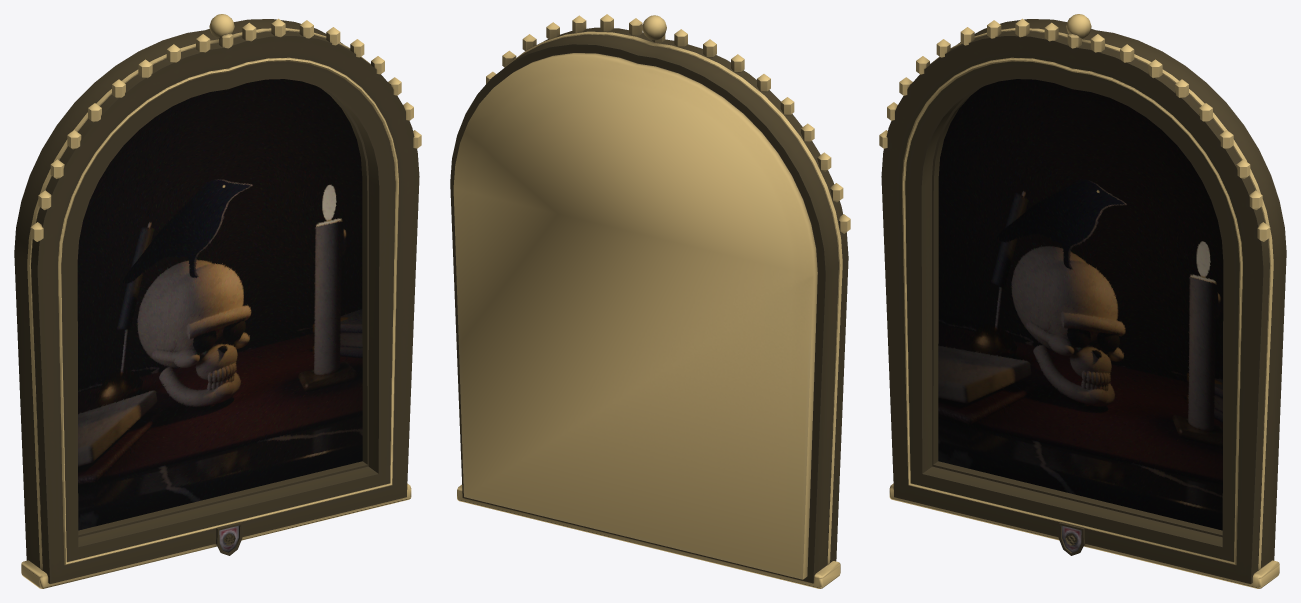
File: PaintingRaven.fbx
The picture shows the model from 3 angles, left to right: view 1: azimuth 30°, elevation 25°; view 2: azimuth 150°, elevation 25°; view 3: azimuth 330°, elevation 25°; orthographic projection.
Parts seen in each view (by area): view 1: PaintingRaven_Canvas, PaintingRaven_Main; view 2: PaintingRaven_Main; view 3: PaintingRaven_Canvas, PaintingRaven_Main.
Boxes of the visible parts, x1,y1,x2,y2 form: PaintingRaven_Canvas: [77, 79, 362, 530]; PaintingRaven_Main: [14, 14, 421, 588]; PaintingRaven_Main: [450, 14, 850, 588]; PaintingRaven_Canvas: [938, 79, 1223, 530]; PaintingRaven_Main: [879, 14, 1286, 588].
Size of the model in its own units: 385 by 509 by 50.7.
